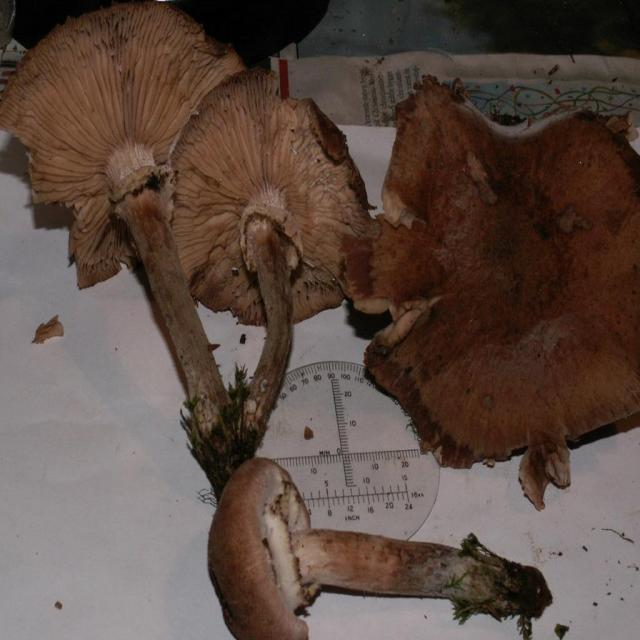Armillaria mellea: (4, 3, 371, 479), (375, 79, 640, 501), (201, 457, 553, 640)
